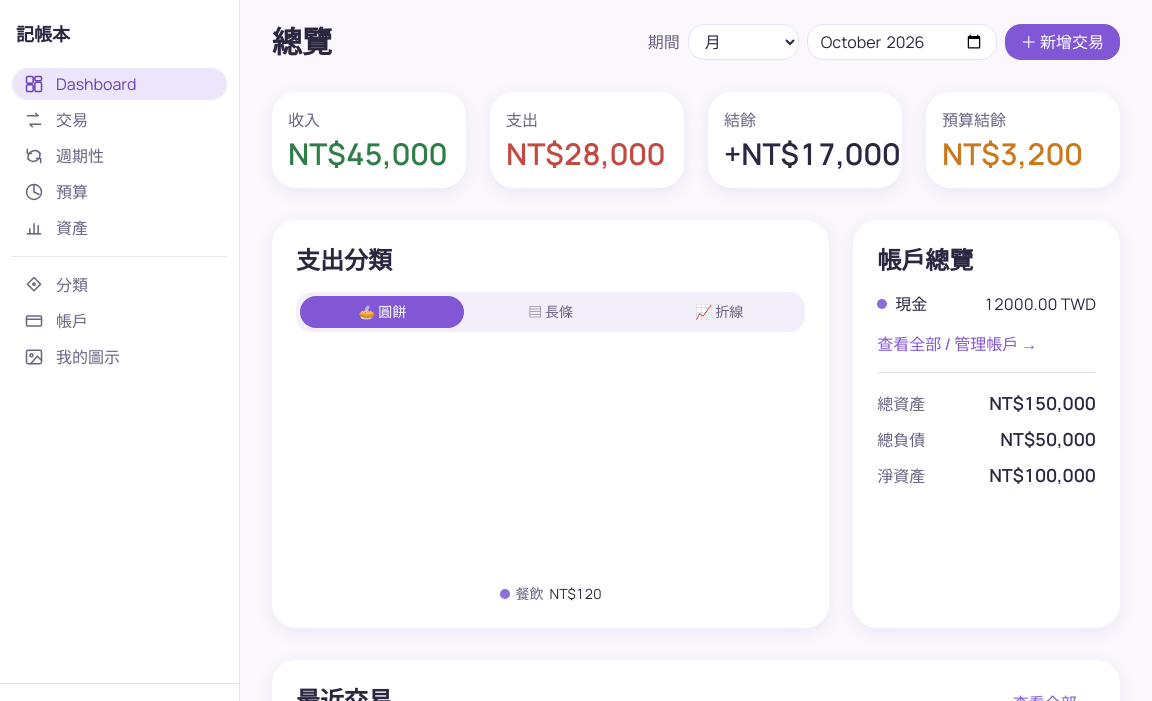
it: DashboardPage › 桌機 Header 的「＋ 新增交易」按鈕同樣開啟表單
Click the button "＋ 新增交易".
click(1062, 42)  # box [1005, 24, 1120, 60]
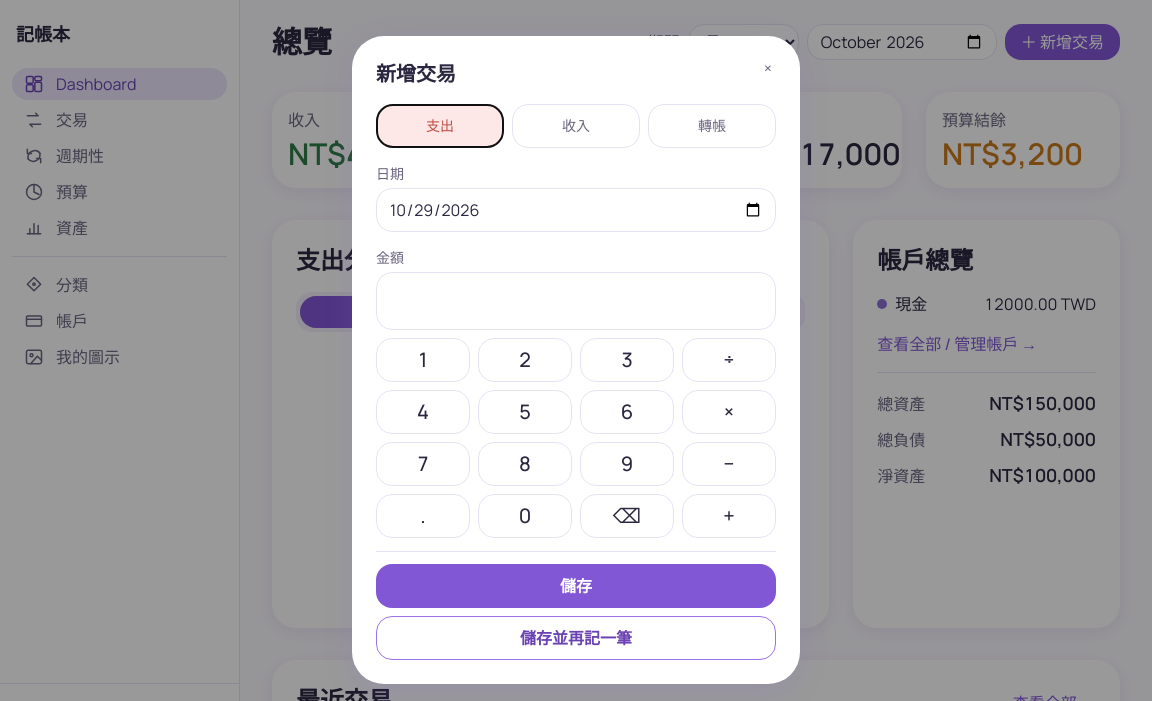
Expected: the dialog is shown, [352, 36, 800, 684]
